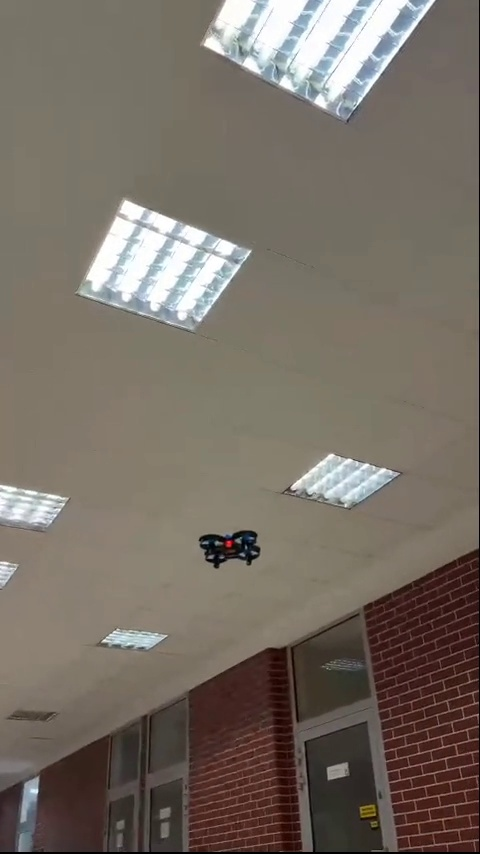drone: (198, 529, 262, 571)
